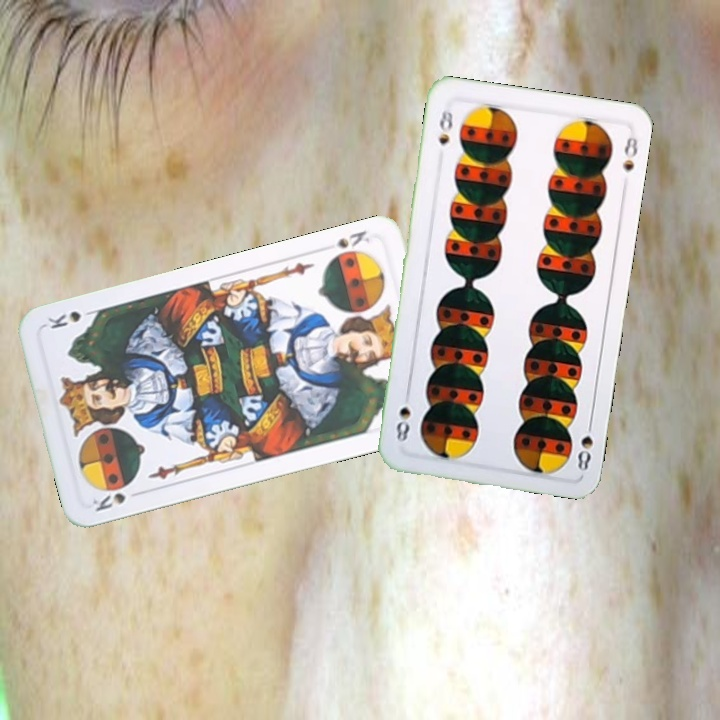S8: (573, 415, 595, 474), (435, 105, 456, 148)
SK: (88, 488, 129, 514), (333, 226, 372, 251)
